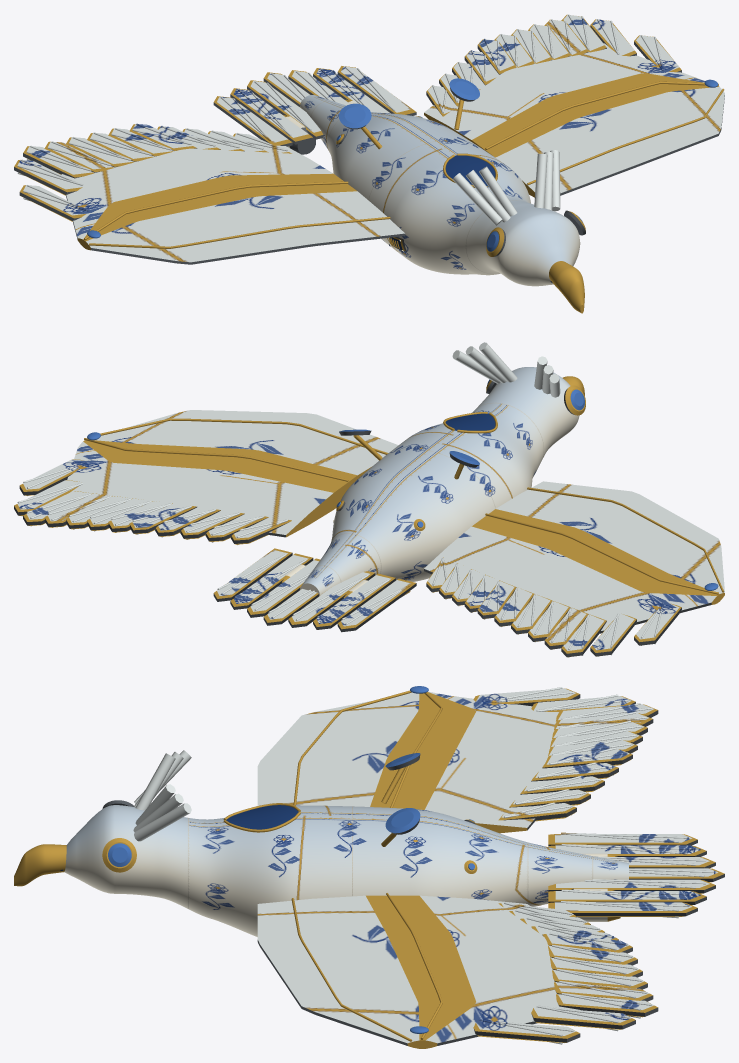
3 views of the same model, one above another, from view 1: azimuth 30°, elevation 25°; view 2: azimuth 150°, elevation 25°; view 3: azimuth 270°, elevation 25° (orthographic). The views are drawn at different scales.
Visible parts, largest first — view 1: harpy_eagle_hull; view 2: harpy_eagle_hull; view 3: harpy_eagle_hull.
Boxes of the visible parts, left/top/right/bottom form: harpy_eagle_hull: left=14, top=14, right=724, bottom=313; harpy_eagle_hull: left=14, top=342, right=724, bottom=657; harpy_eagle_hull: left=14, top=686, right=724, bottom=1048.
Size of the model in its own units: 272 by 60.17 by 233.
1 material, 1 textured.
